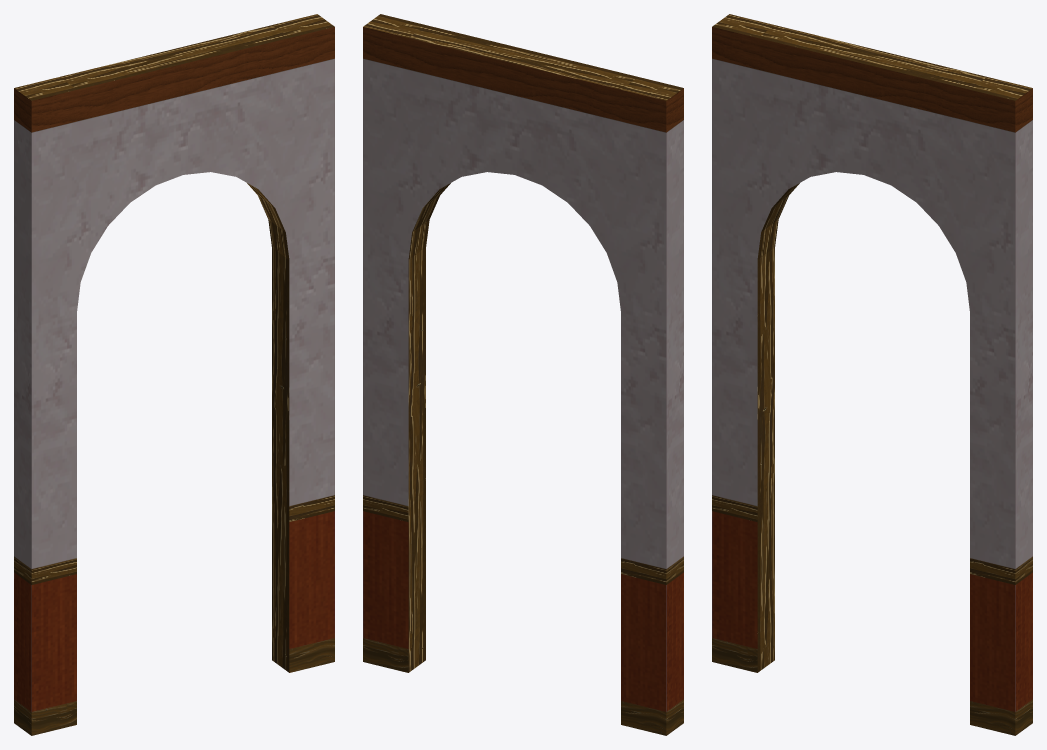
File: SM_Wall_Door_Stone.fbx
3 views of the same model, side by side, from view 1: azimuth 30°, elevation 25°; view 2: azimuth 150°, elevation 25°; view 3: azimuth 330°, elevation 25° (orthographic).
Parts seen in each view (by area): view 1: SM_Wall_Door_Stone; view 2: SM_Wall_Door_Stone; view 3: SM_Wall_Door_Stone.
Boxes of the visible parts, left/top/right/bottom form: SM_Wall_Door_Stone: left=14, top=14, right=334, bottom=735; SM_Wall_Door_Stone: left=363, top=14, right=683, bottom=735; SM_Wall_Door_Stone: left=712, top=14, right=1032, bottom=735.
Bounding box in the file's own units: 2 × 4 × 0.2.
